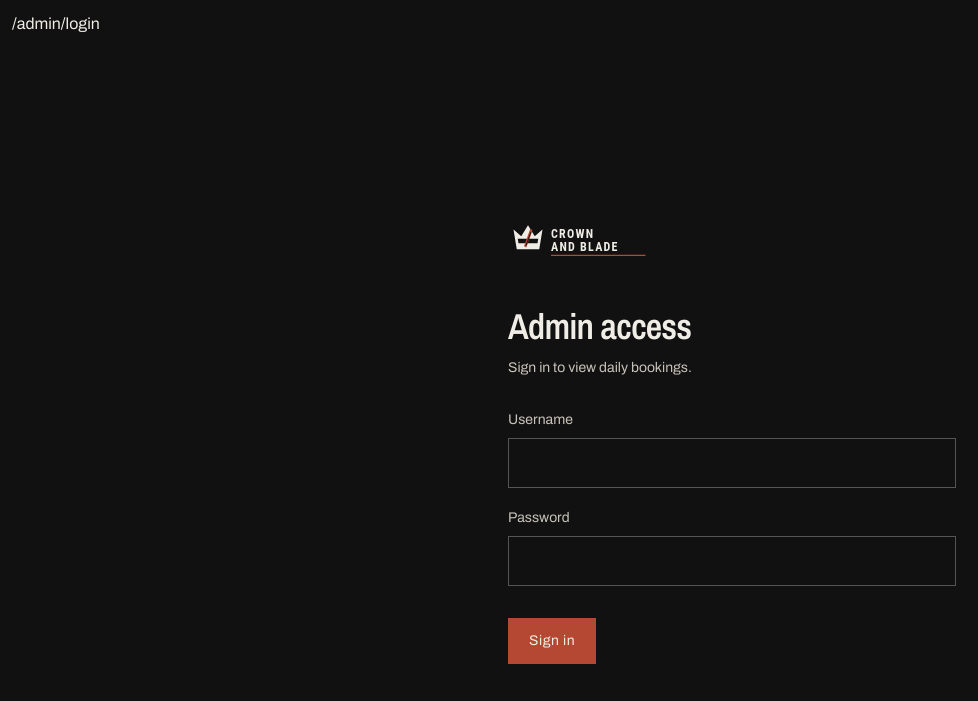
Test case: admin area › shows the returned login error and keeps the entered username
In the field labelled "Username": (732, 462) 508,438 -> 956,488, type "owner"
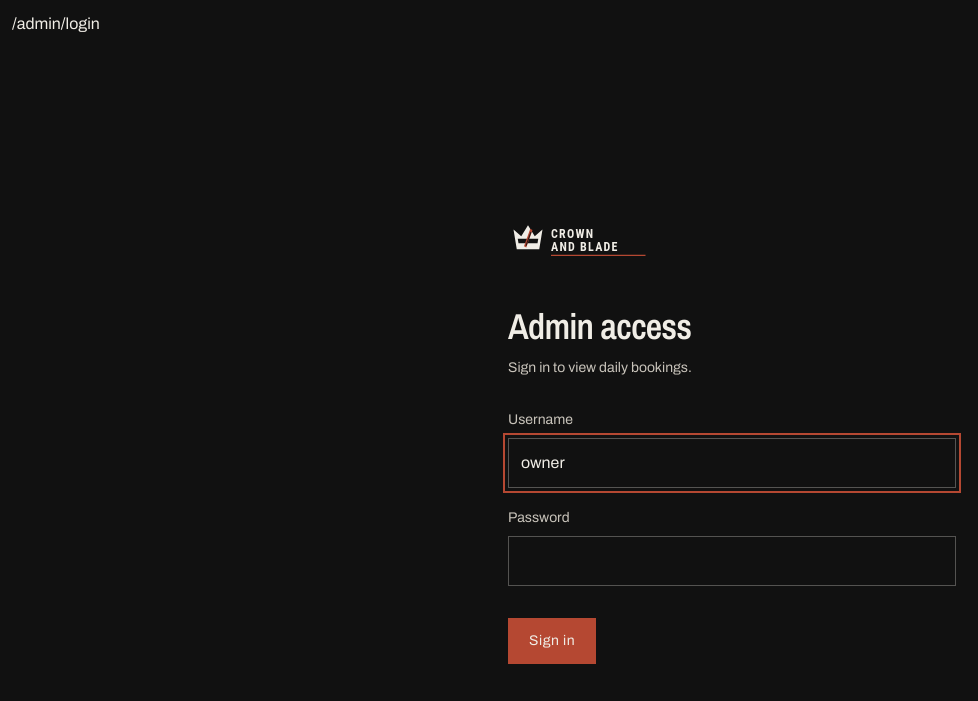
In the password field labelled "Password": (732, 560) 508,536 -> 956,586, type "wrong-password"
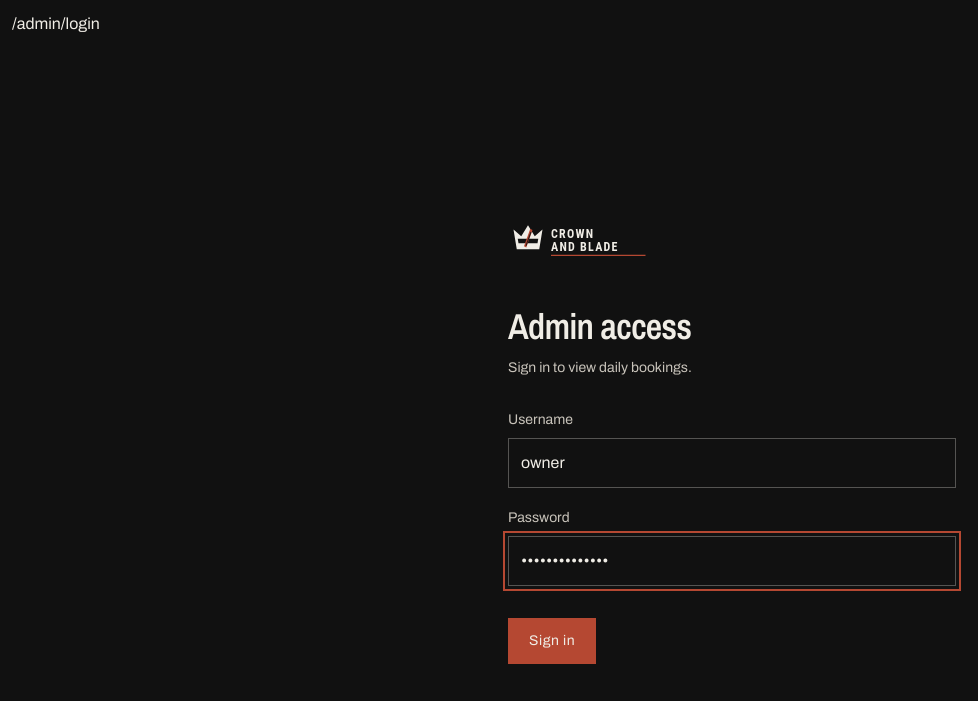
Click the button "Sign in": (552, 640) 508,618 -> 596,664
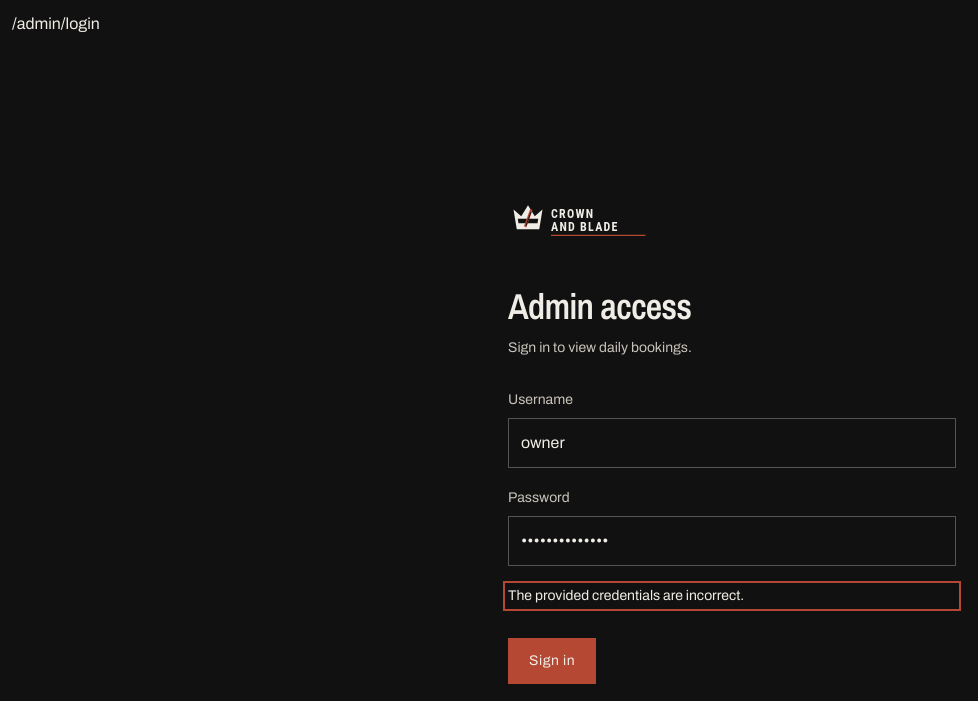
Expected: the text with test id "location" reads "/admin/login", 12,15 -> 100,32
Expected: the message reads "The provided credentials are incorrect.", 508,588 -> 744,602
